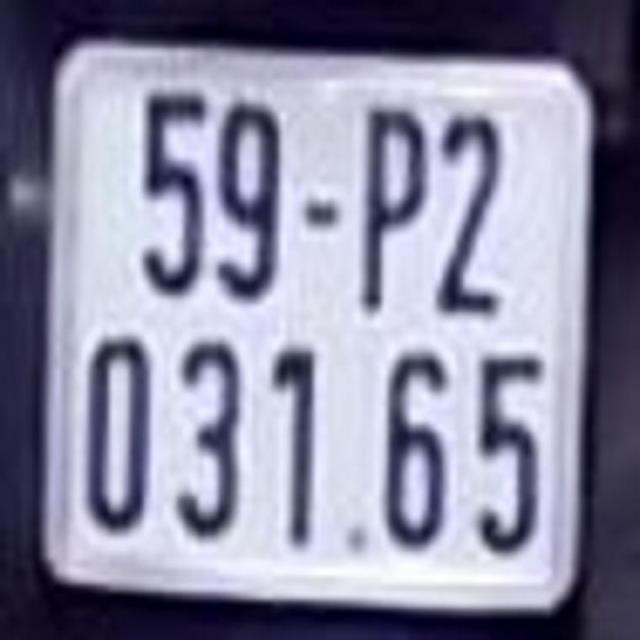0: (82, 340, 154, 530)
1: (265, 352, 322, 545)
2: (437, 114, 507, 317)
3: (174, 346, 240, 532)
5: (132, 87, 213, 290), (471, 360, 548, 556)
6: (377, 350, 450, 548)
9: (214, 100, 282, 308)
P: (350, 106, 430, 311)
